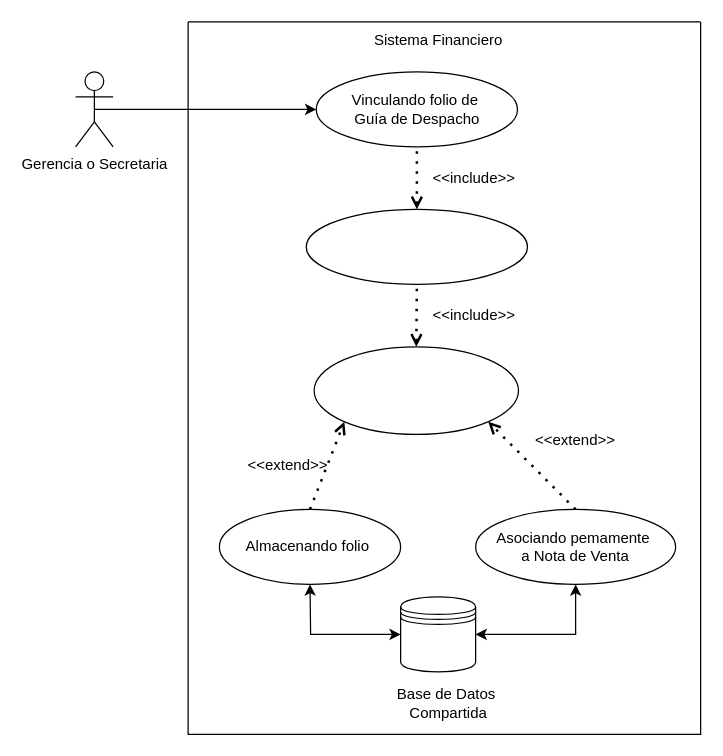
The diagram is 723 pixels wide and 756 high, and some of its shapes have lost their labels. The shapes that lost their labels are listed below. From the top down, each one's box as (x1, y1, x2, y2) in pixels, then its label:
(305, 208, 528, 284): Ingresando sección "Documentos de Tránsito" en Nota de Venta
(313, 346, 518, 434): Digitando número de folio alfanumérico
